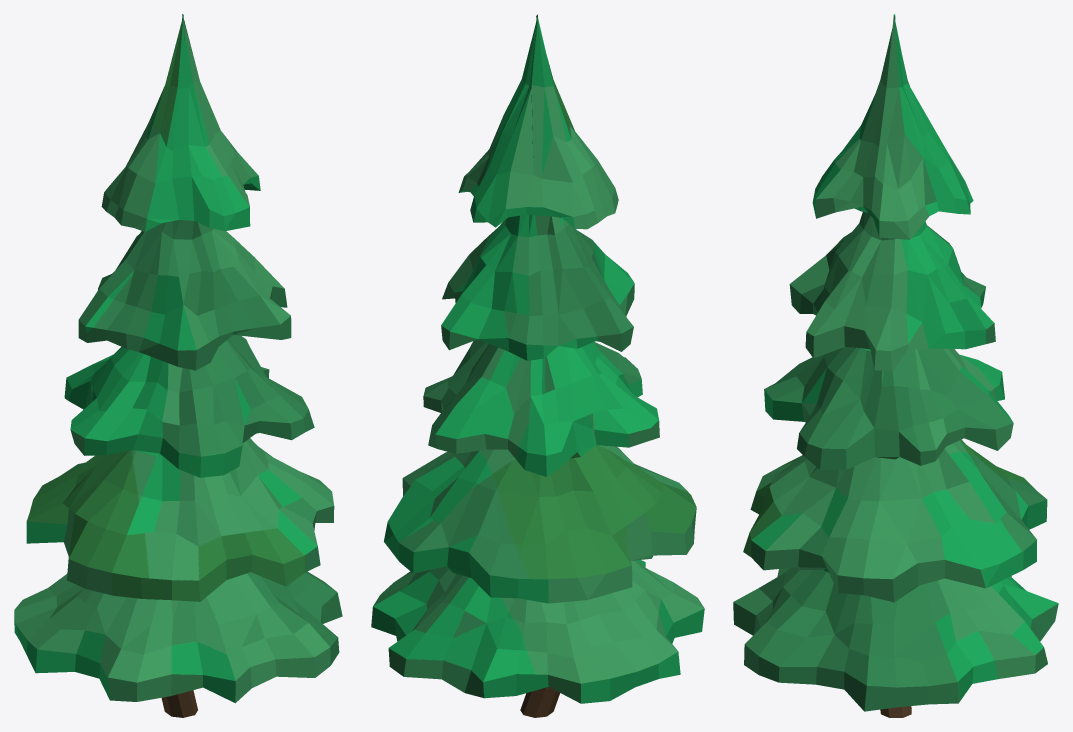
The model's file is _8_tree_Cube.002.obj.
3 renders of one model, left to right at view 1: azimuth 30°, elevation 25°; view 2: azimuth 150°, elevation 25°; view 3: azimuth 270°, elevation 25°, orthographic.
Parts seen in each view (by area): view 1: _8_tree_Cube.002; view 2: _8_tree_Cube.002; view 3: _8_tree_Cube.002.
Part boxes in pixels (bbox=[...]): _8_tree_Cube.002: bbox=[14, 14, 342, 717]; _8_tree_Cube.002: bbox=[371, 14, 704, 717]; _8_tree_Cube.002: bbox=[733, 14, 1058, 717].
Bounding box in the file's own units: 0.9411 × 2.16 × 0.9146.
1 material, 1 textured.
